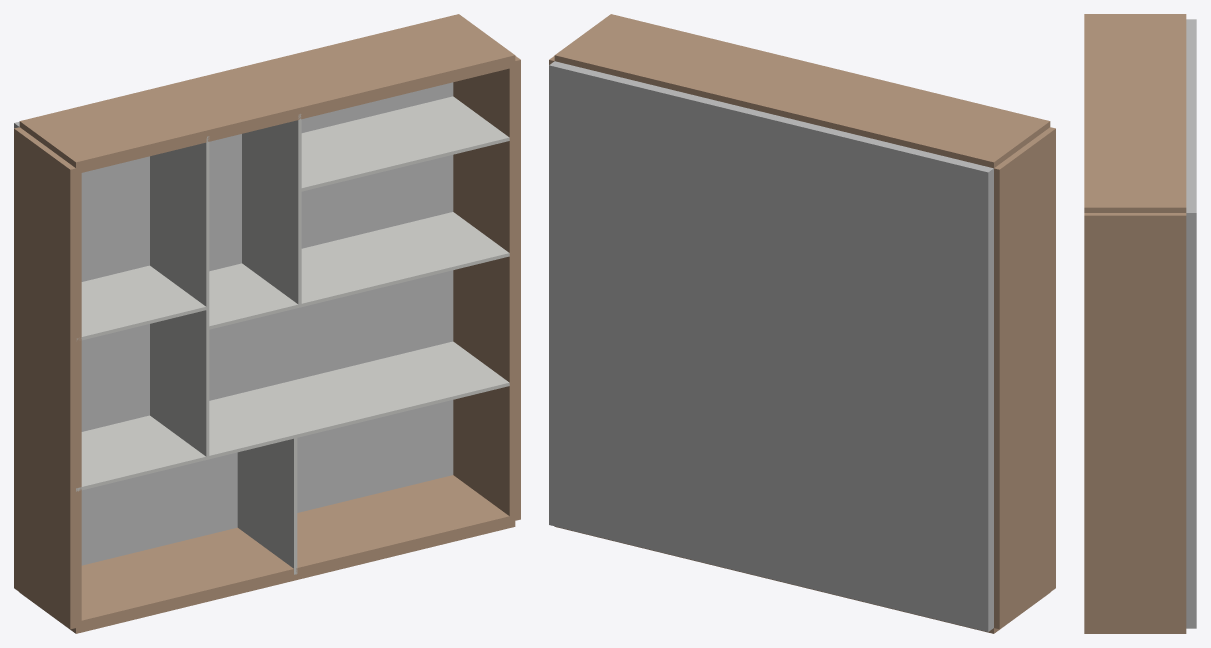
3 renders of one model, left to right at view 1: azimuth 30°, elevation 25°; view 2: azimuth 150°, elevation 25°; view 3: azimuth 270°, elevation 25°, orthographic. The views are drawn at different scales.
Visible parts, largest first — view 1: floor_slab, wall_3, wall_2, wall_0, wall_1, wall_6, wall_5, wall_11, wall_12, wall_13, wall_4, wall_14 (+4 smaller); view 2: floor_slab, wall_3, wall_2; view 3: wall_1, wall_2, floor_slab, wall_0.
Part boxes in pixels (<box>): floor_slab: <box>14,82,453,565</box>; wall_3: <box>14,127,81,629</box>; wall_2: <box>19,14,515,174</box>; wall_0: <box>19,475,515,633</box>; wall_1: <box>453,56,520,521</box>; wall_6: <box>207,341,509,459</box>; wall_5: <box>208,212,509,329</box>; wall_11: <box>300,96,509,191</box>; wall_12: <box>150,136,209,328</box>; wall_13: <box>242,115,301,305</box>; wall_4: <box>150,315,209,456</box>; wall_14: <box>237,436,297,574</box>; floor_slab: <box>549,61,993,631</box>; wall_3: <box>994,127,1055,629</box>; wall_2: <box>554,14,1050,168</box>; wall_1: <box>1084,213,1186,630</box>; wall_2: <box>1084,14,1186,212</box>; floor_slab: <box>1186,19,1196,628</box>; wall_0: <box>1084,631,1186,633</box>.
Bounding box in the file's own units: 13.85 × 13.85 × 3.3.
